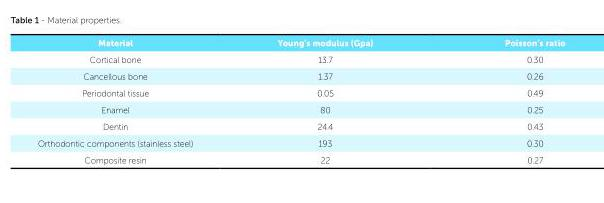table: (36, 37, 564, 164)
table column: (234, 37, 438, 164), (36, 37, 234, 164), (438, 37, 564, 164)
table row: (36, 50, 564, 67), (36, 67, 564, 84), (36, 100, 564, 117), (36, 117, 564, 134), (36, 134, 564, 151), (36, 84, 564, 100), (36, 37, 564, 50), (36, 151, 564, 164)
